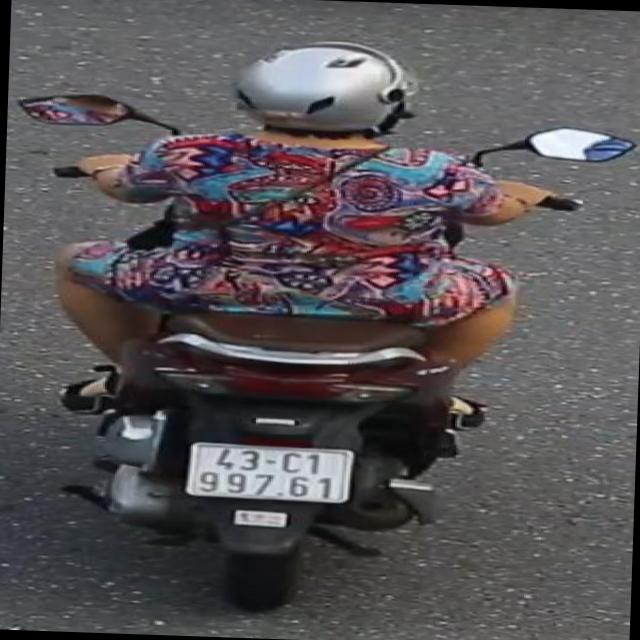LP: (181, 434, 365, 508)
helmet: (215, 28, 435, 158)
